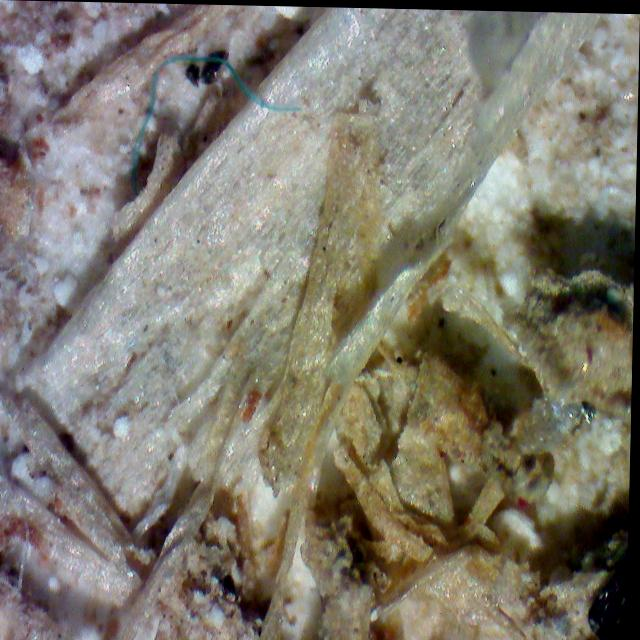microplastic: (79, 13, 305, 207)
